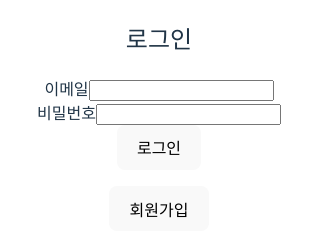
Login Page UI & Functionality › shows error message on invalid login
In the field with test id "login-email-input": [181, 90] box x1=89 y1=80 x2=274 y2=101, type "wrong@example.com"
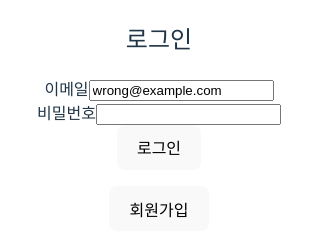
In the password field with test id "login-password-input": [188, 114] box x1=96 y1=104 x2=281 y2=125, type "wrongpass"
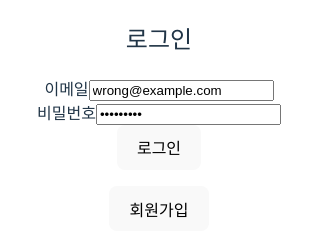
Click the button with test id "login-submit-btn": [159, 147] box x1=117 y1=125 x2=201 y2=170
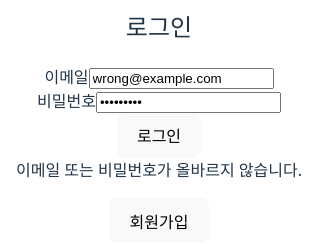
Expected: the text "이메일 또는 비밀번호가 올바르지 않습니다." is shown, x1=16 y1=158 x2=302 y2=182
